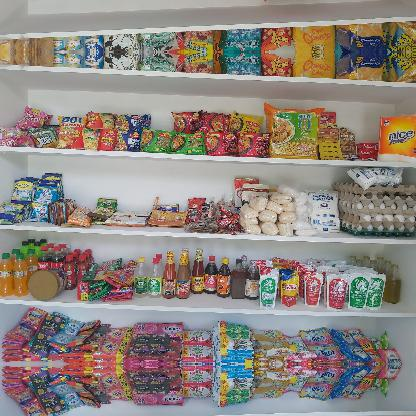Lady-s-Choice: (26, 266, 68, 302)
